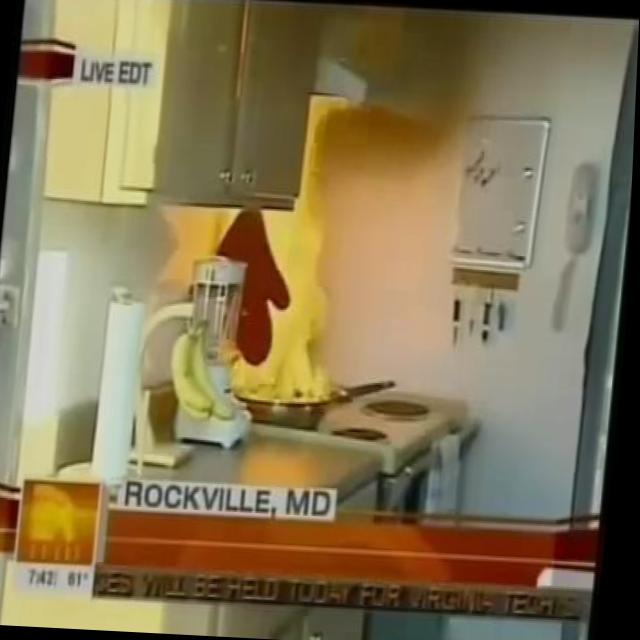fire: (209, 90, 374, 400)
